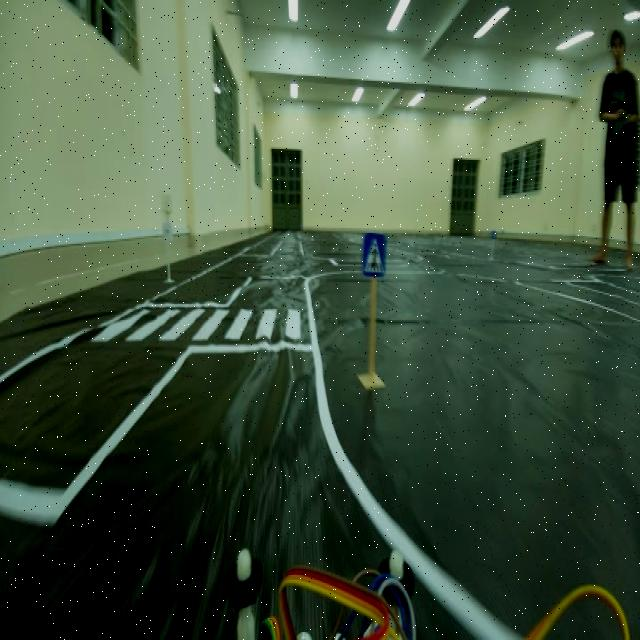crosswalk: (358, 221, 391, 286)
